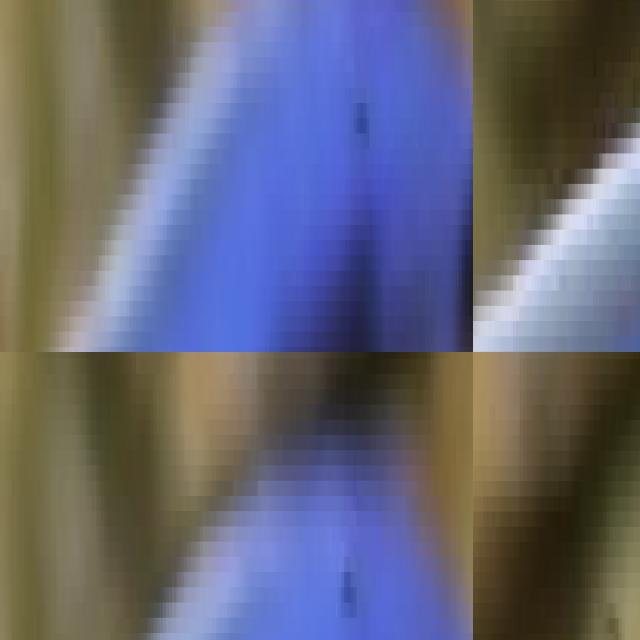fish: (0, 0, 473, 352), (0, 352, 473, 640)
